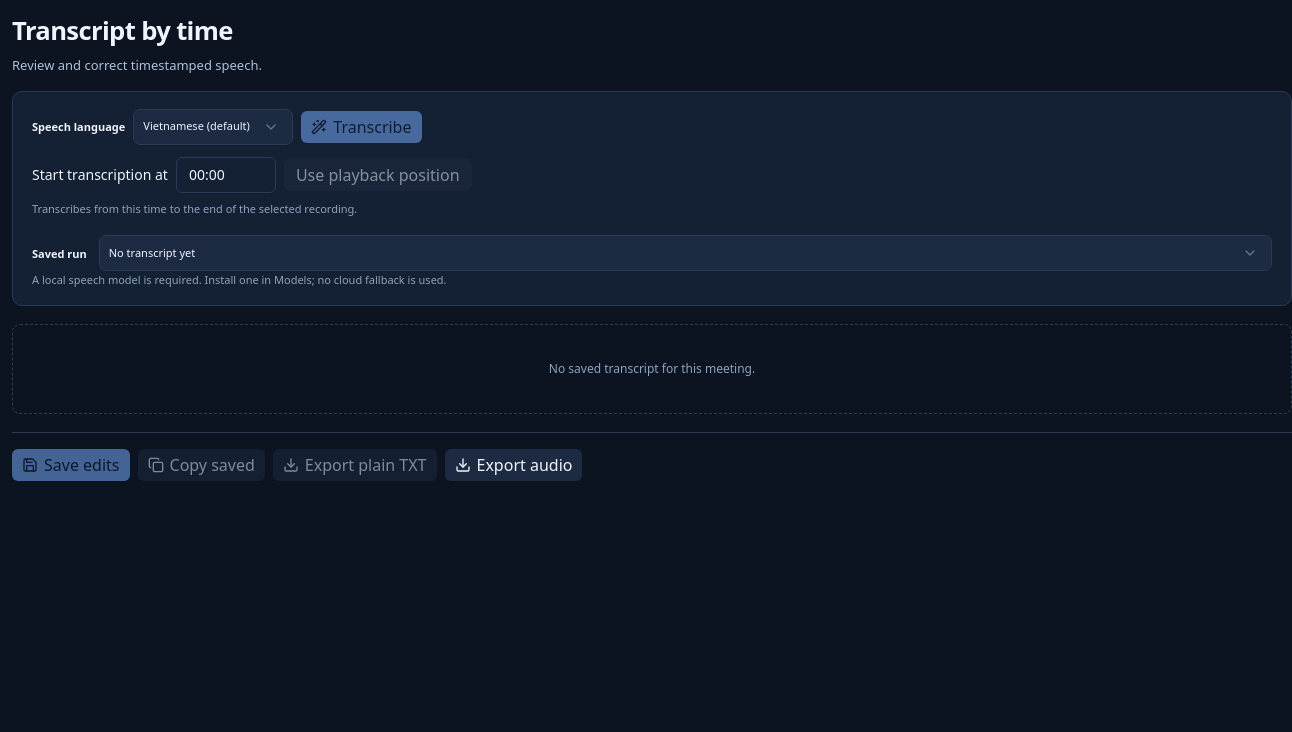
Scenario: exports recording audio even when no transcript exists
The image size is (1292, 732).
Click the button "Export audio" at [513, 465], box x1=444 y1=449 x2=582 y2=481
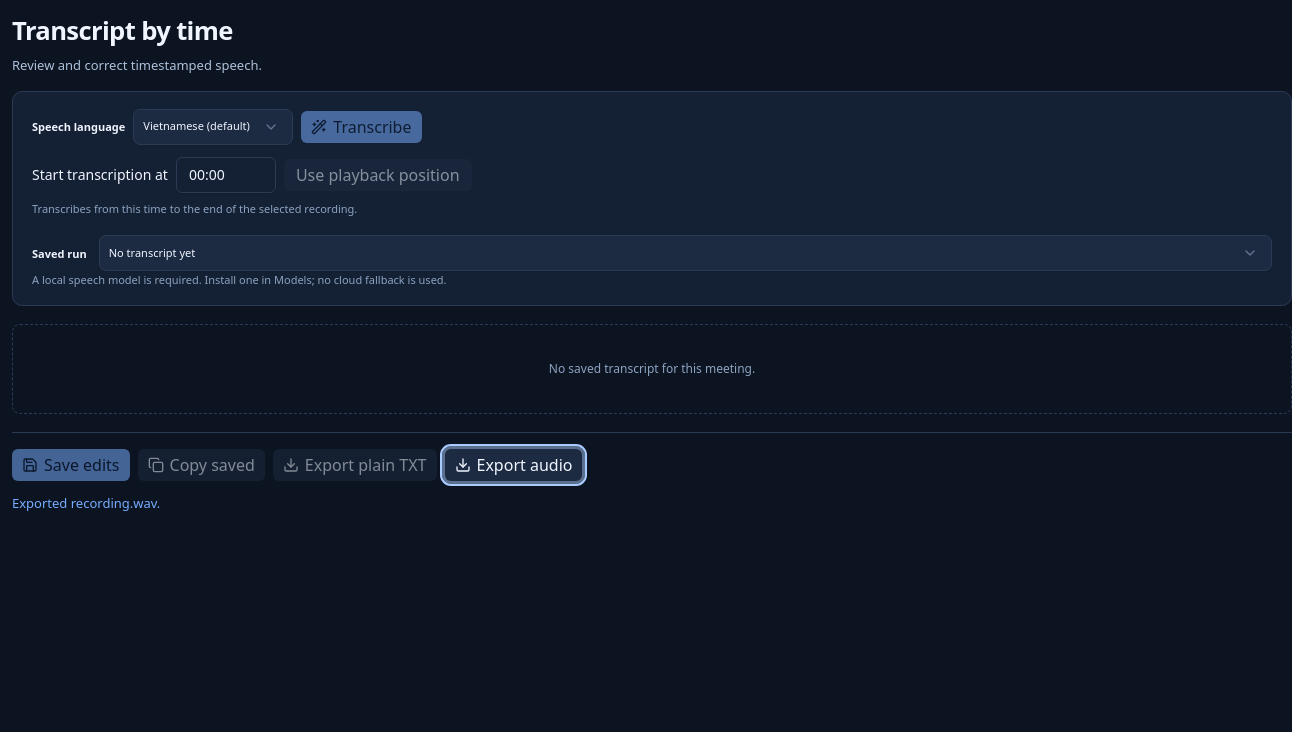
Result: the text "Exported recording.wav." is shown at x1=12 y1=494 x2=160 y2=512
